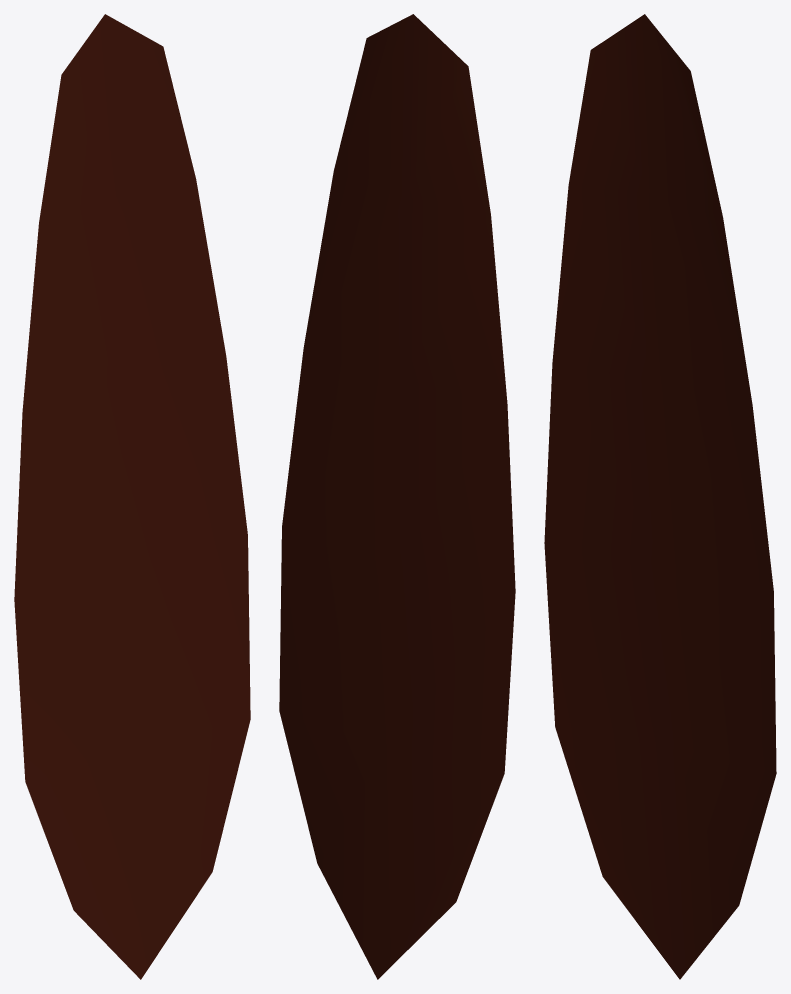
Rendered from pheasant_feather_flight_secondary_031.obj.
3 views of the same model, side by side, from view 1: azimuth 30°, elevation 25°; view 2: azimuth 150°, elevation 25°; view 3: azimuth 330°, elevation 25° (orthographic).
Parts seen in each view (by area): view 1: feather_flight_secondary_031; view 2: feather_flight_secondary_031; view 3: feather_flight_secondary_031.
Part boxes in pixels (<box>): feather_flight_secondary_031: <box>14,14,250,979</box>; feather_flight_secondary_031: <box>279,14,515,979</box>; feather_flight_secondary_031: <box>544,14,776,979</box>.
Bounding box in the file's own units: 0.0151 × 0.0595 × 0.000633.
